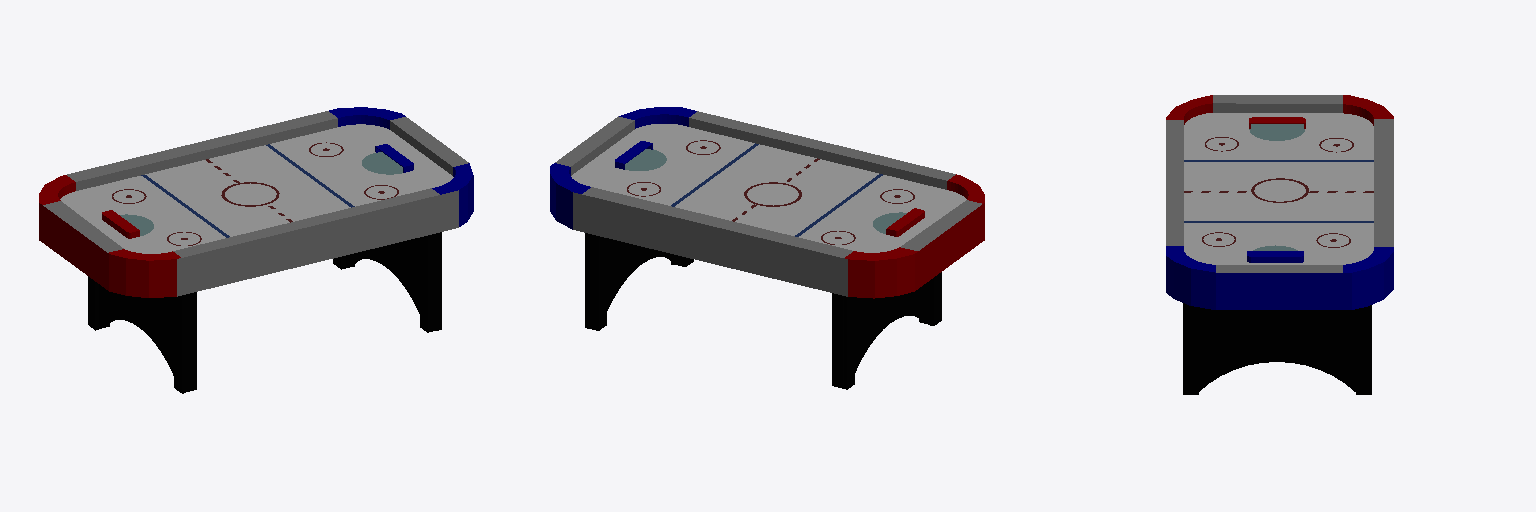
Rendered from HockeyTable.obj.
The picture shows the model from 3 angles: view 1: azimuth 30°, elevation 25°; view 2: azimuth 150°, elevation 25°; view 3: azimuth 270°, elevation 25°; orthographic projection.
Visible parts, largest first — view 1: Mesh1_Group1_Model, Mesh4_Model, Mesh2_Model, Mesh3_Model; view 2: Mesh1_Group1_Model, Mesh4_Model, Mesh3_Model, Mesh2_Model; view 3: Mesh1_Group1_Model, Mesh4_Model, Mesh5_Model, Mesh6_Model.
Boxes of the visible parts, x1,y1,x2,y2 form: Mesh1_Group1_Model: [39, 107, 473, 391]; Mesh4_Model: [333, 233, 437, 332]; Mesh2_Model: [174, 295, 185, 393]; Mesh3_Model: [88, 276, 98, 330]; Mesh1_Group1_Model: [550, 107, 984, 388]; Mesh4_Model: [588, 234, 693, 330]; Mesh3_Model: [843, 296, 854, 389]; Mesh2_Model: [930, 272, 941, 325]; Mesh1_Group1_Model: [1166, 95, 1393, 309]; Mesh4_Model: [1199, 307, 1355, 391]; Mesh5_Model: [1183, 303, 1198, 394]; Mesh6_Model: [1356, 305, 1371, 394].
Bounding box in the file's own units: 85.38 × 32.3 × 46.5.